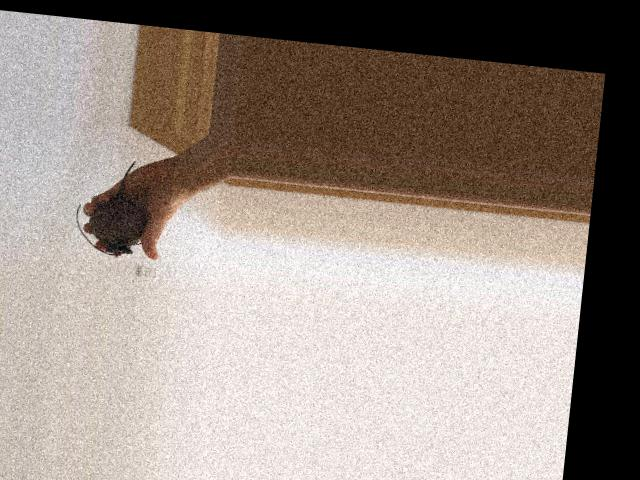beet: (71, 155, 150, 259)
